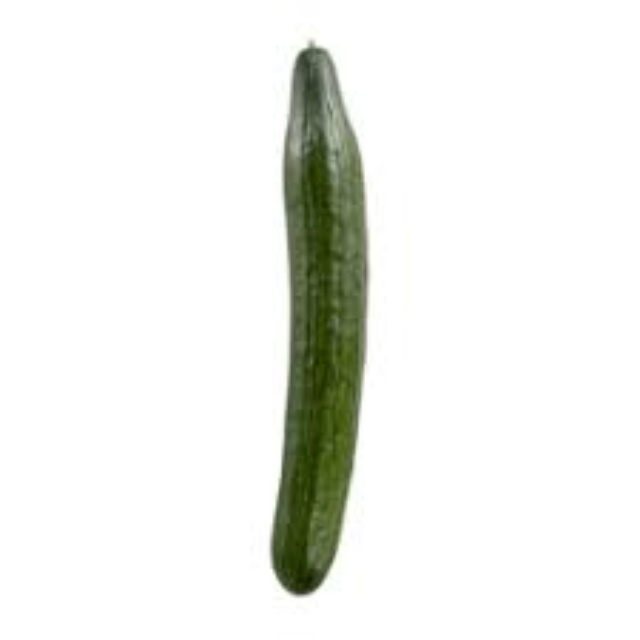dua_leo: (268, 45, 369, 594)
